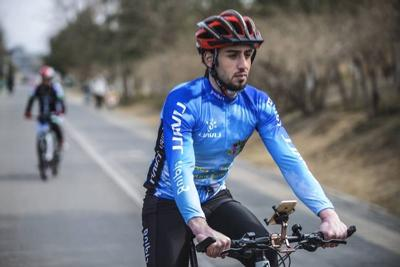With Helmet: (195, 8, 264, 89)
